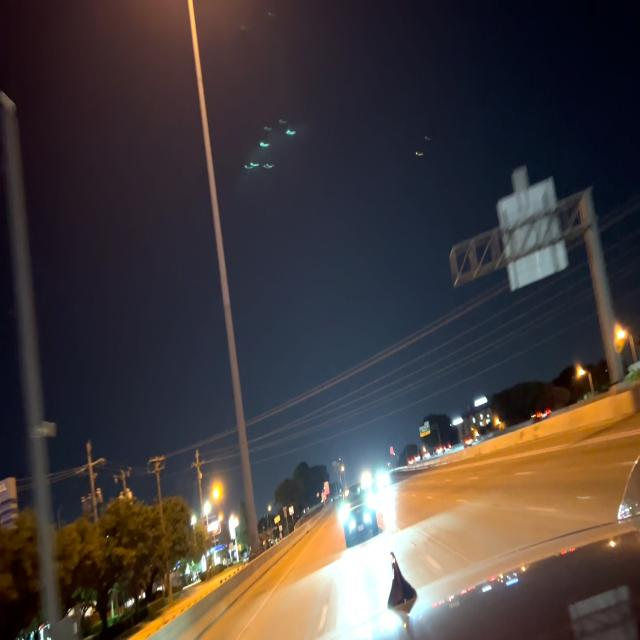back-of-sign: (498, 169, 569, 295)
